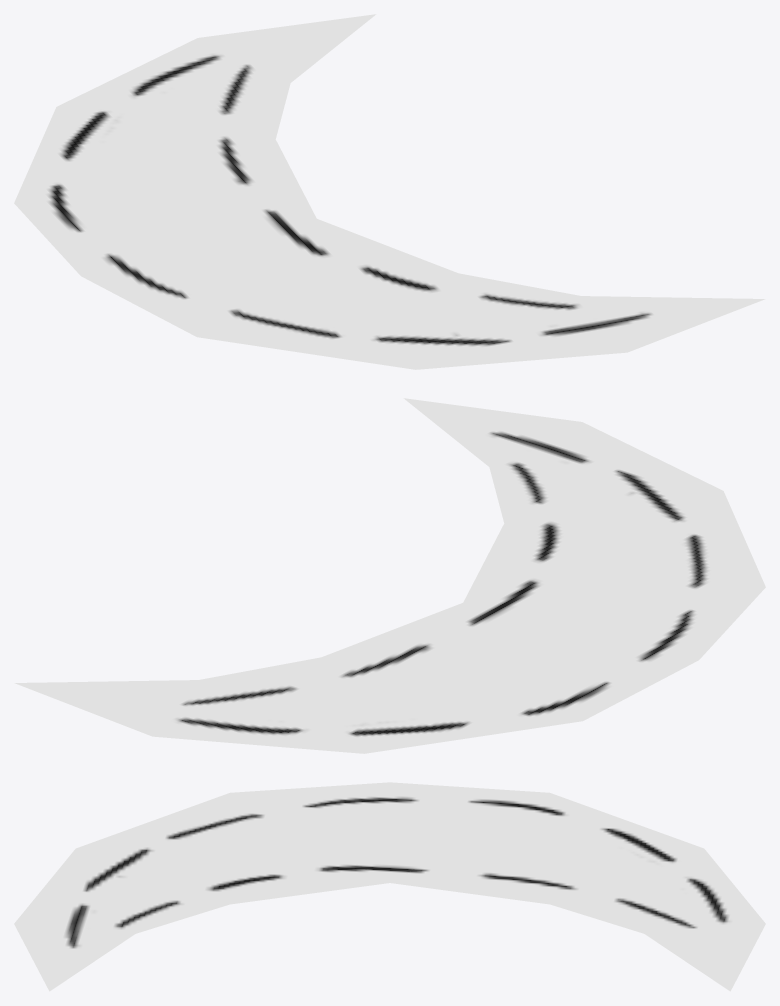
File: patch-moon.fbx
3 views of the same model, one above another, from view 1: azimuth 30°, elevation 25°; view 2: azimuth 150°, elevation 25°; view 3: azimuth 270°, elevation 25° (orthographic). The views are drawn at different scales.
Parts seen in each view (by area): view 1: patch-moon; view 2: patch-moon; view 3: patch-moon.
Part boxes in pixels (left/top/right/bottom): patch-moon: left=14, top=14, right=765, bottom=369; patch-moon: left=14, top=398, right=765, bottom=753; patch-moon: left=14, top=782, right=765, bottom=991.
Size of the model in its own units: 13.04 by 0 by 19.79.
Materials: 1 (1 with a texture image).
